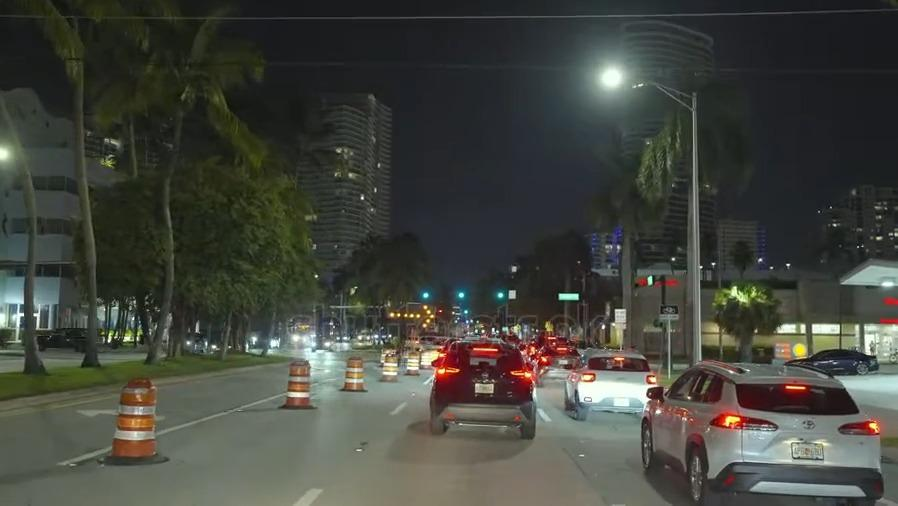arrow traffic sign: (387, 300, 436, 334)
car: (643, 358, 883, 498), (427, 335, 537, 439), (565, 350, 653, 413), (785, 347, 881, 374), (33, 323, 91, 355), (534, 347, 575, 379), (311, 333, 335, 352), (186, 331, 211, 349)
cone: (118, 376, 161, 464), (286, 355, 312, 410), (342, 354, 366, 394), (381, 349, 398, 383), (405, 349, 420, 375)
traffic light: (448, 285, 471, 304), (417, 285, 434, 305), (489, 285, 506, 304)
wheel: (682, 443, 717, 502), (637, 417, 659, 471)
